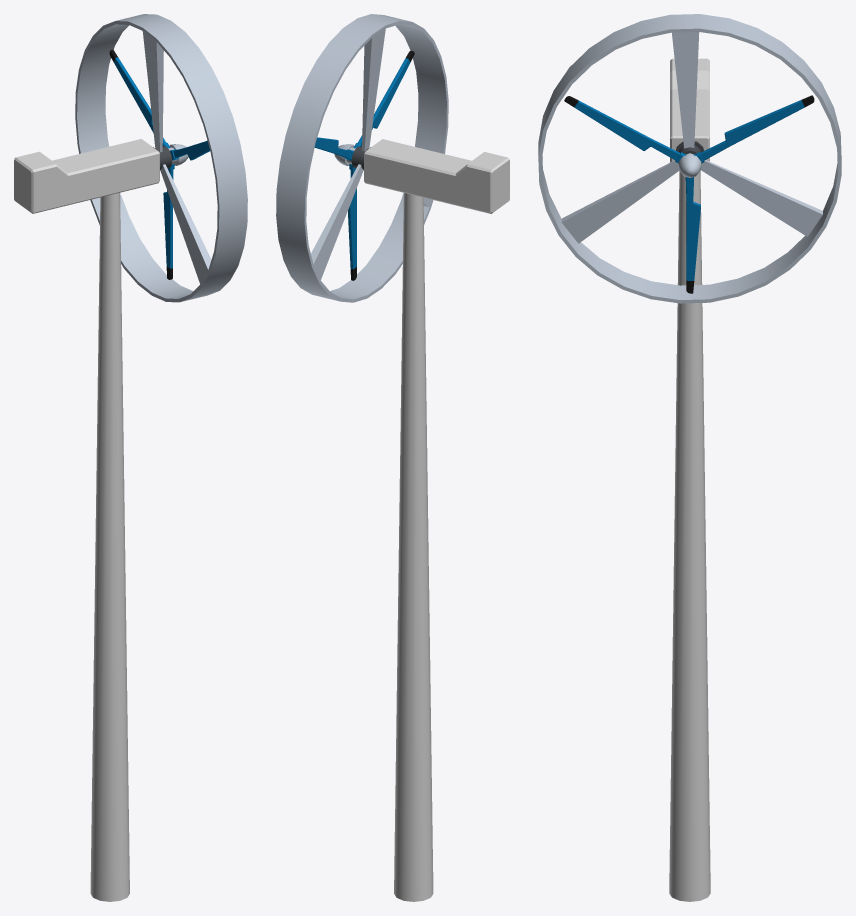
The model's file is SM_Ventilator.fbx.
The picture shows the model from 3 angles, left to right: view 1: azimuth 30°, elevation 25°; view 2: azimuth 150°, elevation 25°; view 3: azimuth 270°, elevation 25°; orthographic projection. The views are drawn at different scales.
Parts seen in each view (by area): view 1: Ventilator, Body_Frame, Propeller_Body, Propeller; view 2: Ventilator, Body_Frame, Propeller_Body, Propeller; view 3: Ventilator, Body_Frame, Propeller, Propeller_Body.
Boxes of the visible parts, x1,y1,x2,y2 form: Ventilator: (90, 193, 129, 901); Body_Frame: (75, 14, 247, 302); Propeller_Body: (14, 139, 172, 213); Propeller: (109, 49, 210, 279); Ventilator: (394, 193, 433, 901); Body_Frame: (276, 14, 448, 302); Propeller_Body: (351, 139, 509, 213); Propeller: (314, 50, 414, 280); Ventilator: (669, 171, 710, 901); Body_Frame: (538, 14, 841, 303); Propeller: (564, 95, 814, 293); Propeller_Body: (670, 58, 709, 162).
Bounding box in the file's own units: 348 × 1709 × 523.
